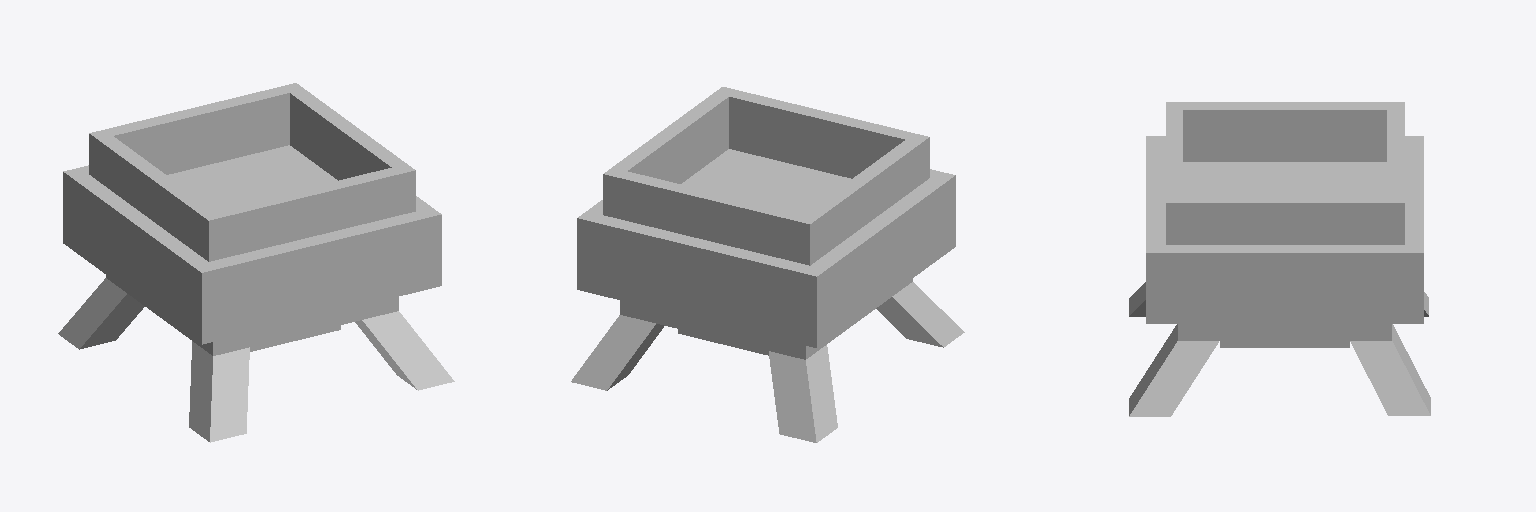
The model's file is cauldron_on.obj.
The picture shows the model from 3 angles: view 1: azimuth 30°, elevation 25°; view 2: azimuth 150°, elevation 25°; view 3: azimuth 270°, elevation 25°; orthographic projection.
Visible parts, largest first — view 1: Plane; view 2: Plane; view 3: Plane.
Part boxes in pixels (left/top/right/bottom): Plane: left=58, top=83, right=454, bottom=442; Plane: left=571, top=87, right=964, bottom=442; Plane: left=1129, top=102, right=1430, bottom=416.
Bounding box in the file's own units: 0.9145 × 0.7264 × 0.969.